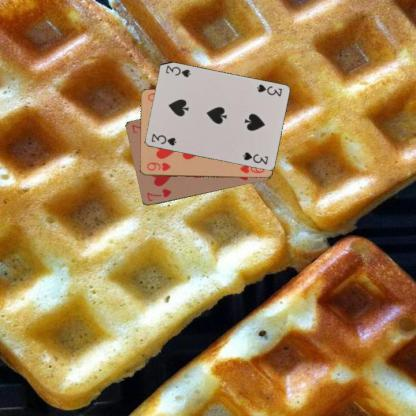3s: (148, 131, 178, 147), (254, 82, 283, 98)
7h: (144, 186, 173, 203)
9h: (144, 160, 172, 172)
